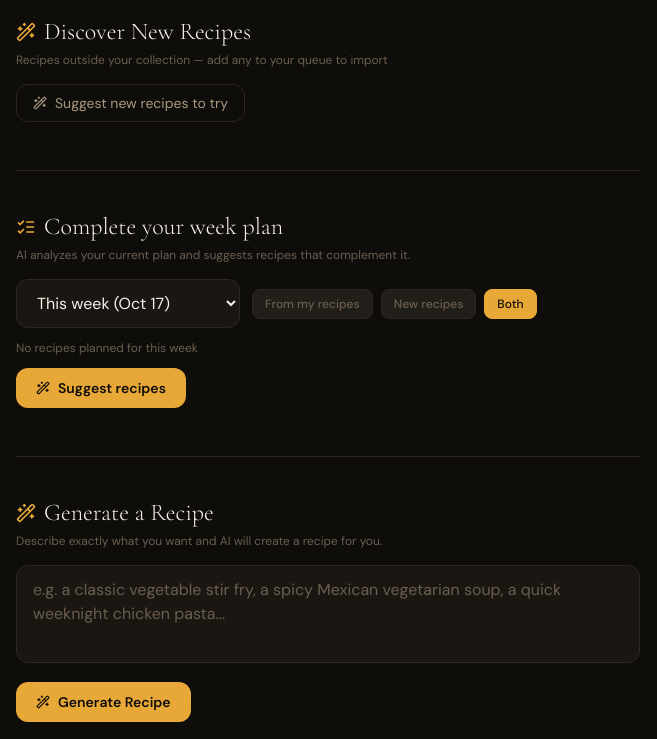
Test: Discover recipe title collision › preserves the generated draft, shows the conflict, and never enriches the existing recipe
(page scrolled)
Replace the text in the text box with placeholder "classic vegetable stir fry" with "Existing Title". click: coordinates (328, 614)
box: [16,565,640,663]
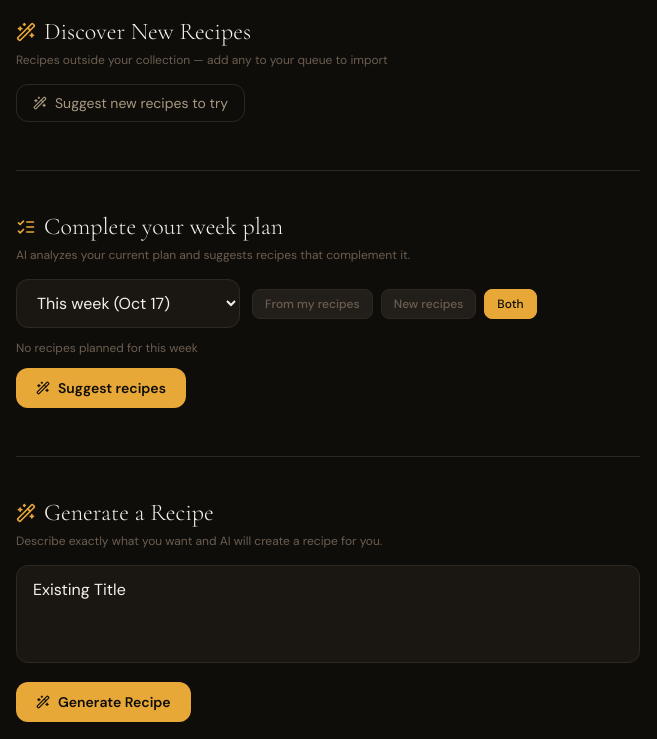
Click the button "Generate Recipe". click: coordinates (103, 702)
box: [16,682,191,722]
(page scrolled)
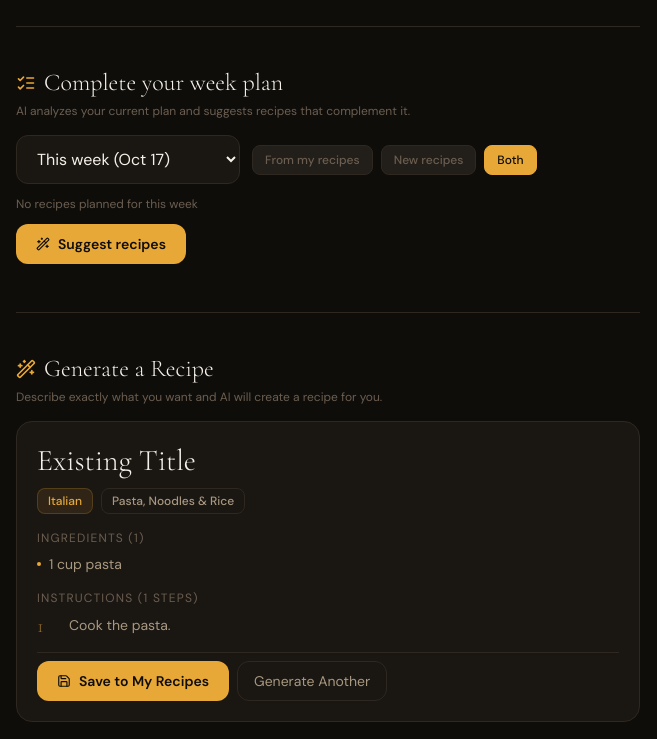
Expected: the heading "Existing Title" is shown, [37,442,196,479]
Click the button "Save to My Recipes". click: coordinates (133, 681)
box: [37,661,229,701]
(page scrolled)
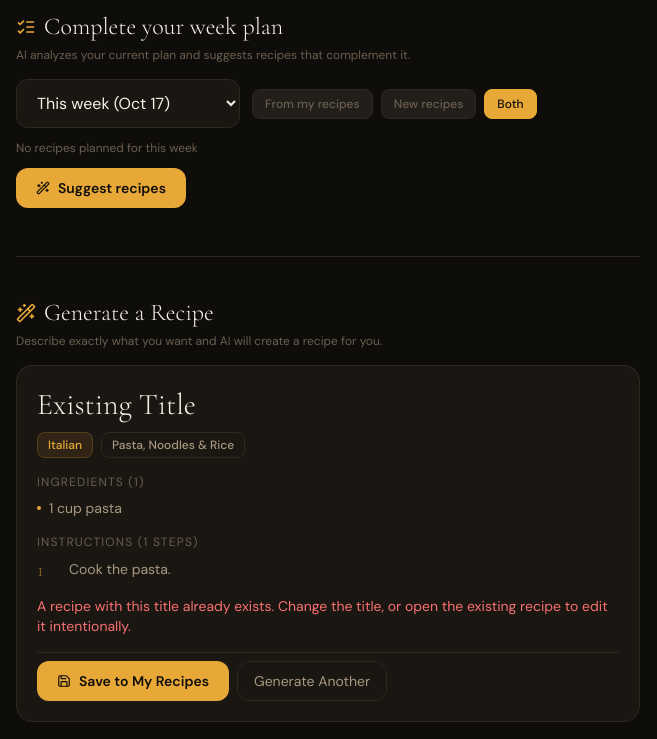
Expected: the heading "Existing Title" is shown, [37,386,196,423]
Expected: the button "Save to My Recipes" is shown, [37,661,229,701]
Expected: the text "already exists" is shown, [37,597,608,635]
